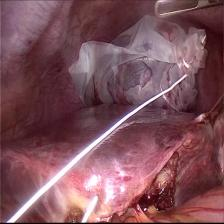Grasper: (153, 0, 219, 20)
Specimen Bag: (60, 14, 212, 117)
